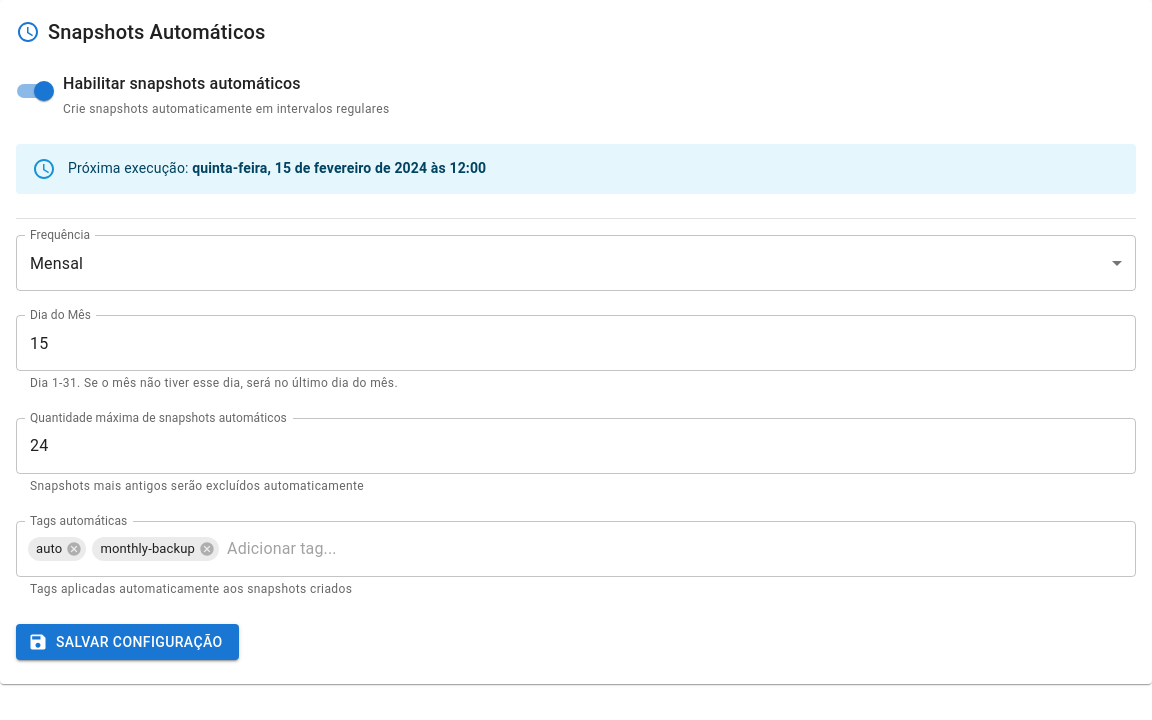
SnapshotScheduleForm › Form Interactions › validates day of month input
// Use fireEvent.change to test the strict validation logic directly
Replace the text in the number field labelled "Dia do Mês" with "50" at coordinates (576, 343), box [16,315,1136,371]
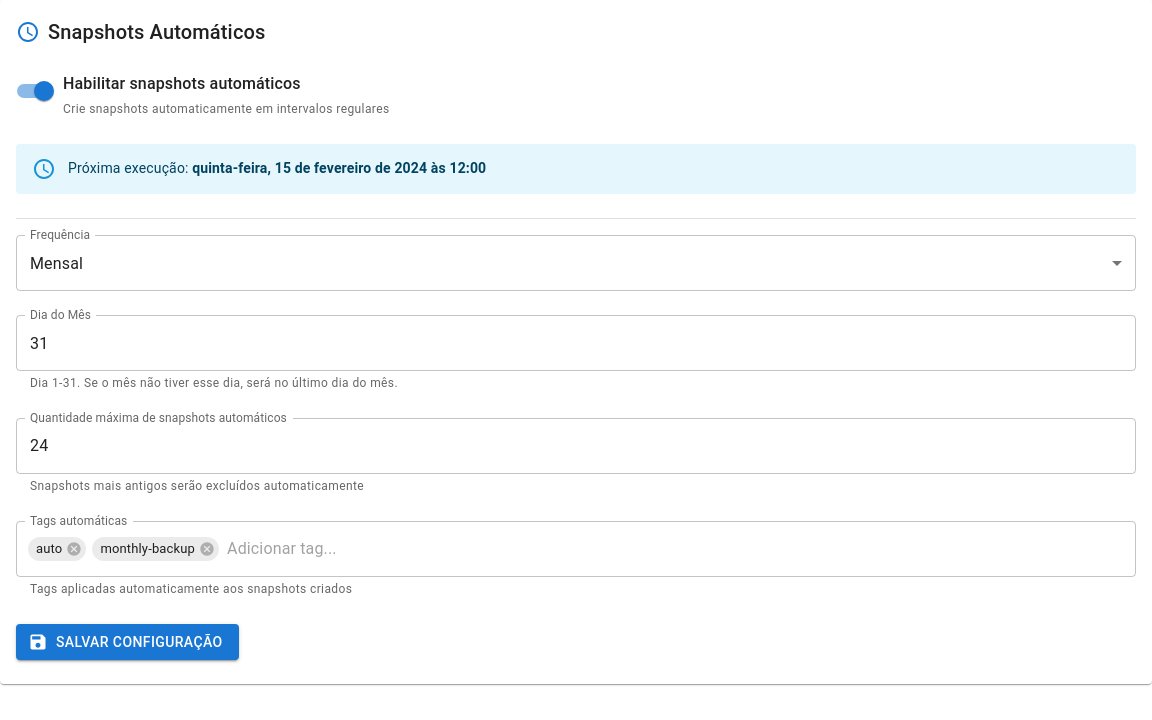
Now the number field labelled "Dia do Mês" holds "31"
Replace the text in the number field labelled "Dia do Mês" with "-5" at coordinates (576, 343), box [16,315,1136,371]
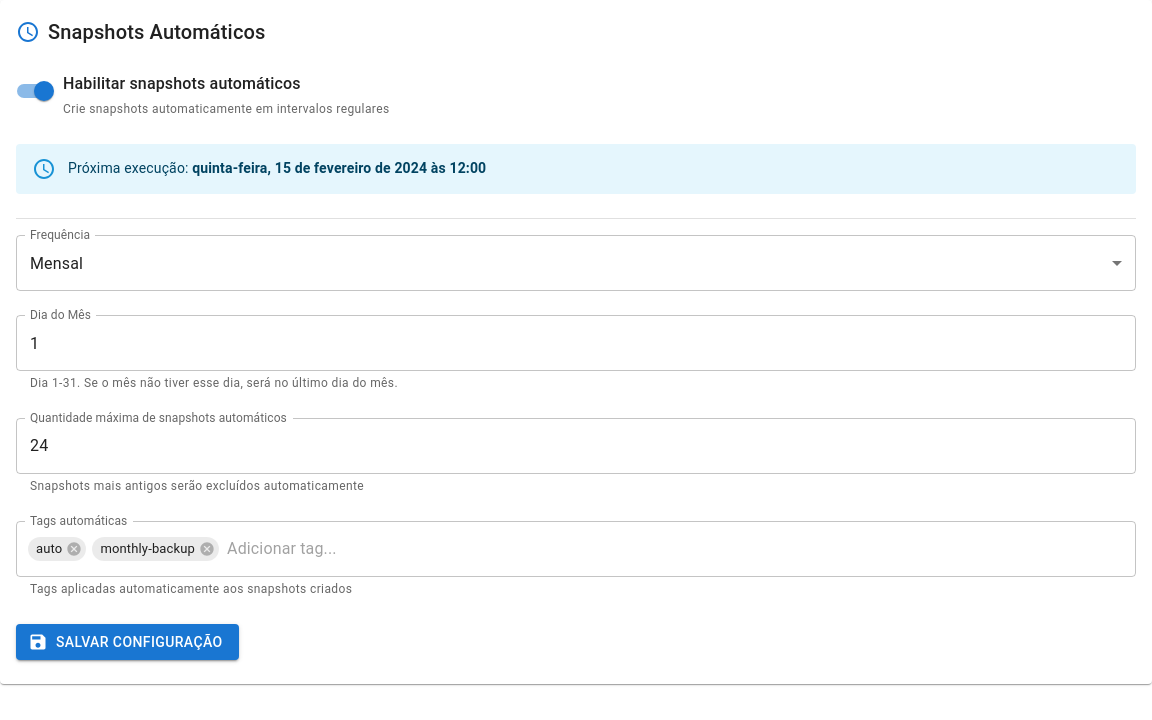
Now the number field labelled "Dia do Mês" holds "1", box [16,315,1136,371]
